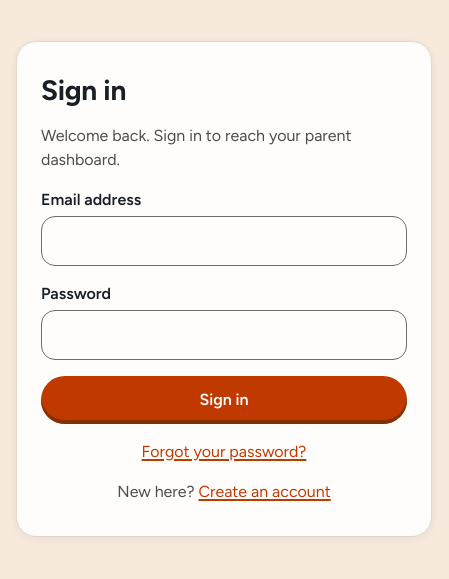
Test: SignInForm › requires an email and password before submitting
The width and height of the screenshot is (449, 579).
Click the button "Sign in": coordinates (224, 400) [41,376,407,424]
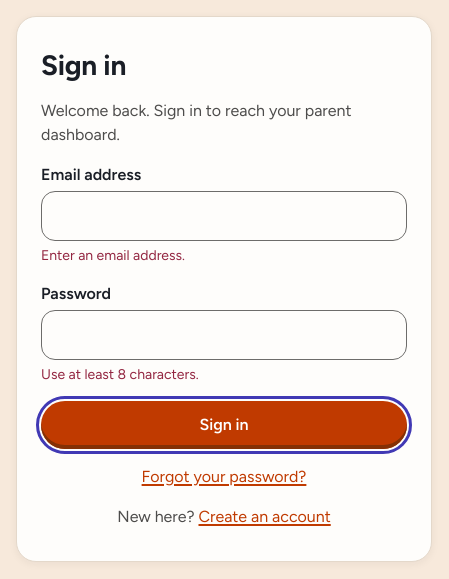
Expected: the text "Enter an email address." is shown, [41,247,185,264]
